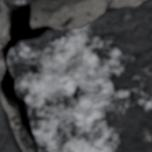brick: (7, 0, 151, 151), (0, 103, 21, 151), (5, 0, 30, 8)
crack: (0, 2, 52, 149)
